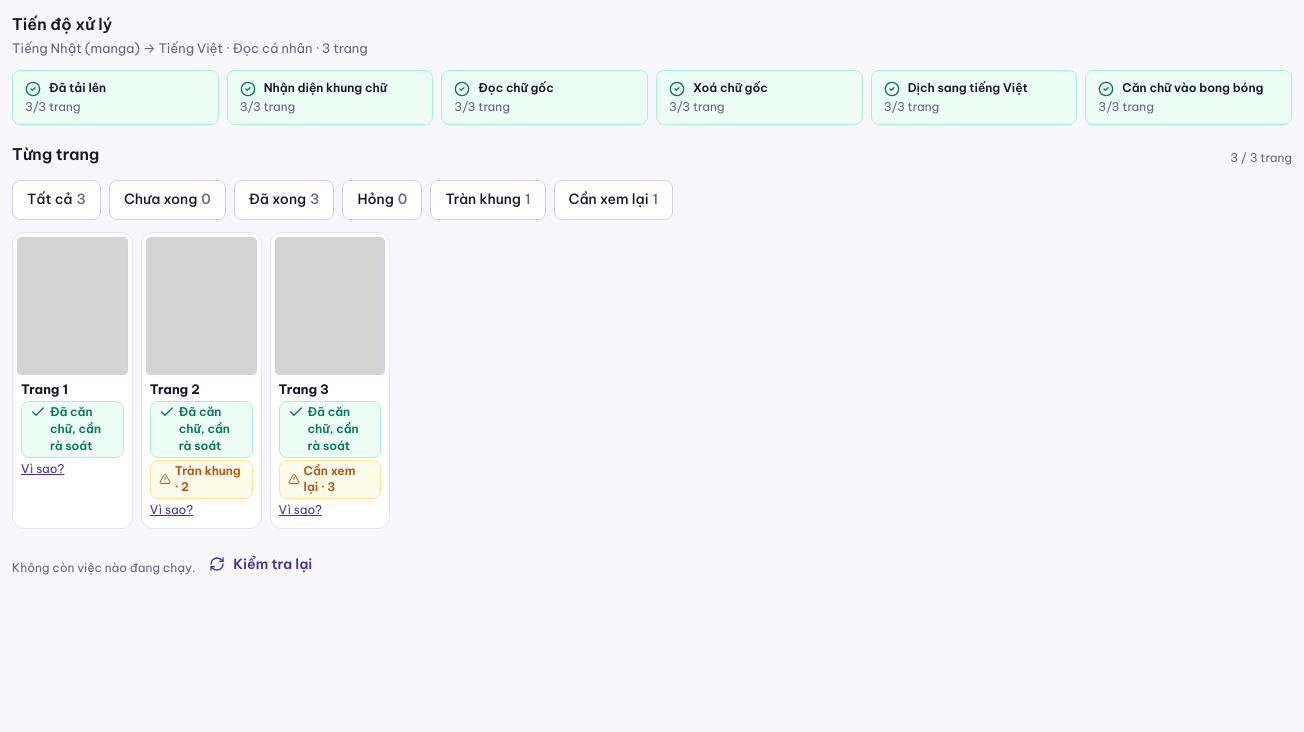
Test: lưới trang — badge và chip › chip "Tràn khung" chỉ còn trang có N>0 và đếm đúng
What coordinates should you click on to do the following:
click the button "Tràn khung 1"
I would click on:
 (488, 200)
Its box is 430,180 -> 546,220.
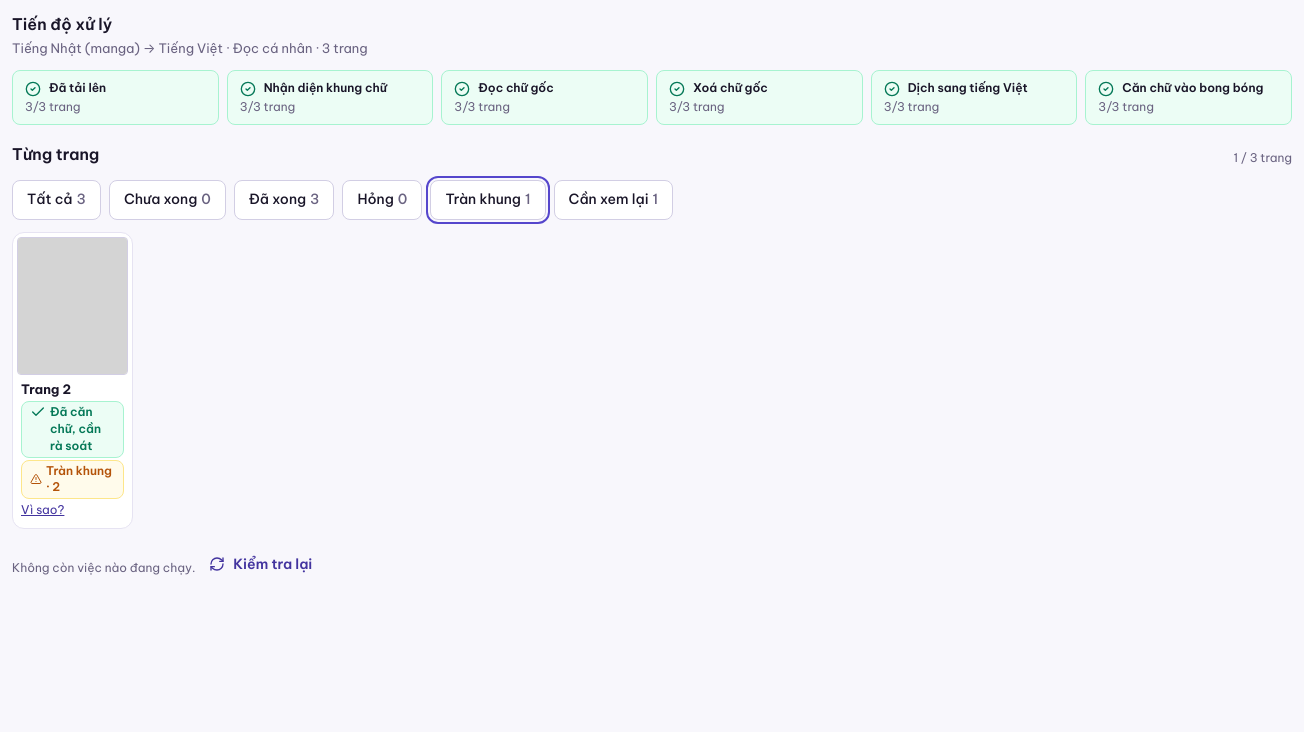
Expected: the text "Trang 2" is shown, 21,381 -> 71,397
Result: the text "trang 3" is gone
